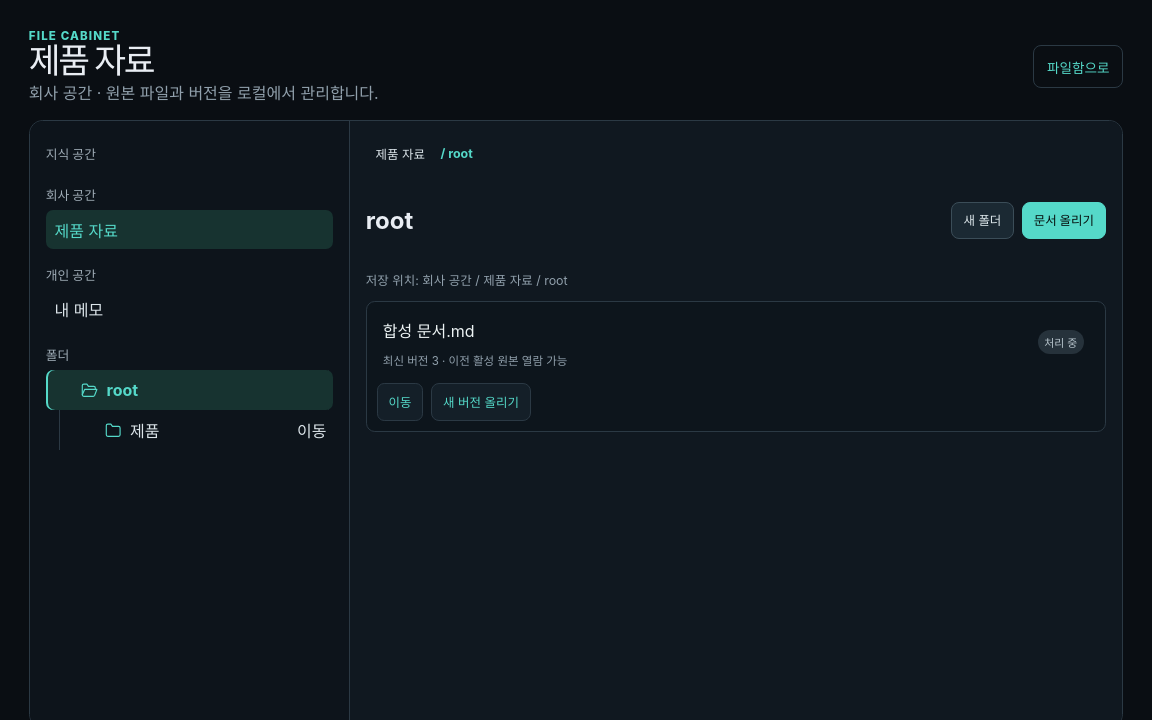
Scenario: selects a folder with a scoped GET and uploads to that exact folder without mutation during navigation
Click the button with aria-label "제품 폴더 열기" at (194, 430), box [97, 410, 291, 450]
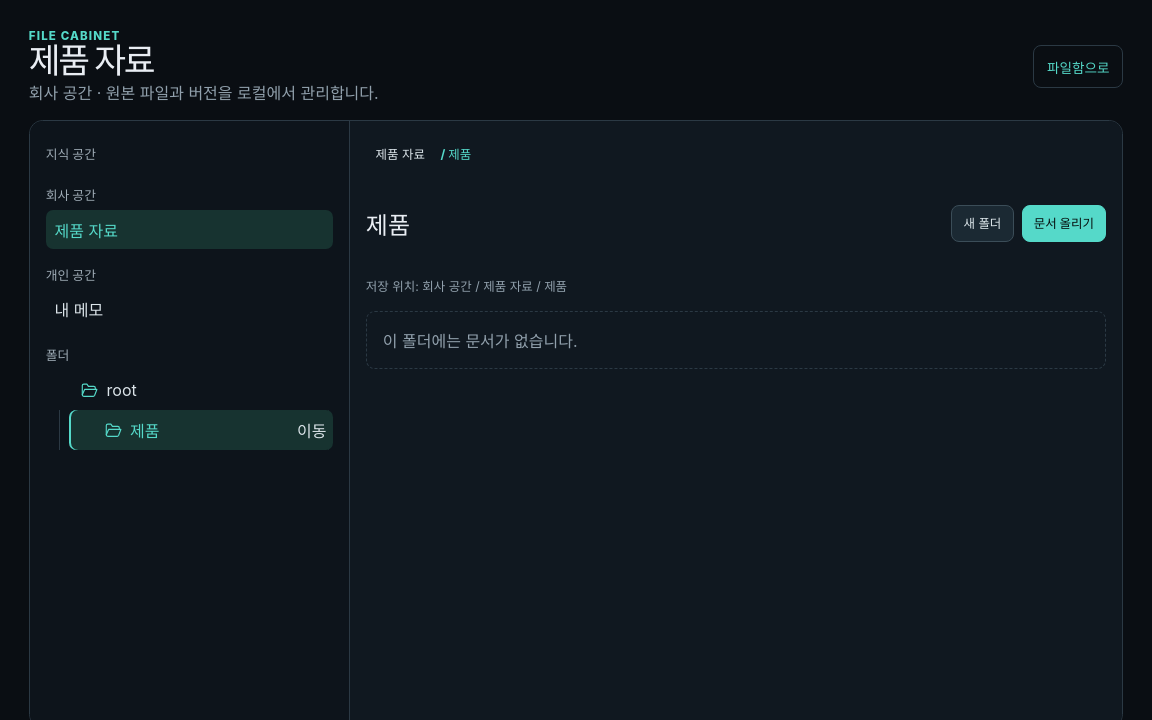
Check: the text "이 폴더에는 문서가 없습니다." is shown, box [366, 311, 1106, 369]
